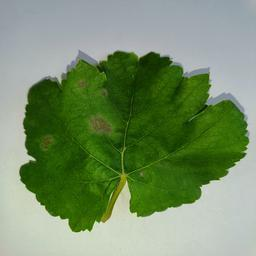Powdery-Mildew: (35, 130, 63, 157), (91, 111, 112, 135), (74, 71, 90, 88)
